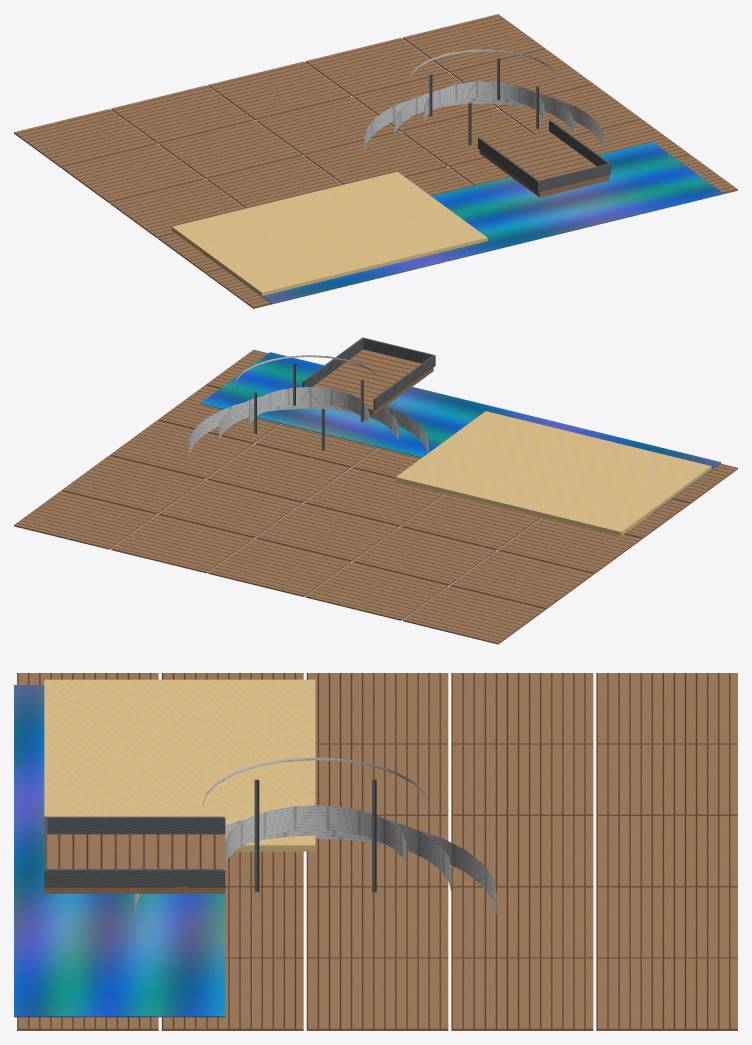
The picture shows the model from 3 angles, top to bottom: view 1: azimuth 30°, elevation 25°; view 2: azimuth 150°, elevation 25°; view 3: azimuth 270°, elevation 25°; orthographic projection. The views are drawn at different scales.
Visible parts, largest first — view 1: 28185_B15_Landmark_City_Deck; view 2: 28185_B15_Landmark_City_Deck; view 3: 28185_B15_Landmark_City_Deck.
Boxes of the visible parts, left/top/right/bottom form: 28185_B15_Landmark_City_Deck: left=14, top=14, right=737, bottom=308; 28185_B15_Landmark_City_Deck: left=14, top=337, right=737, bottom=644; 28185_B15_Landmark_City_Deck: left=14, top=673, right=737, bottom=1030.
Size of the model in its own units: 55.8 by 8.2 by 48.
1 material, 1 textured.
